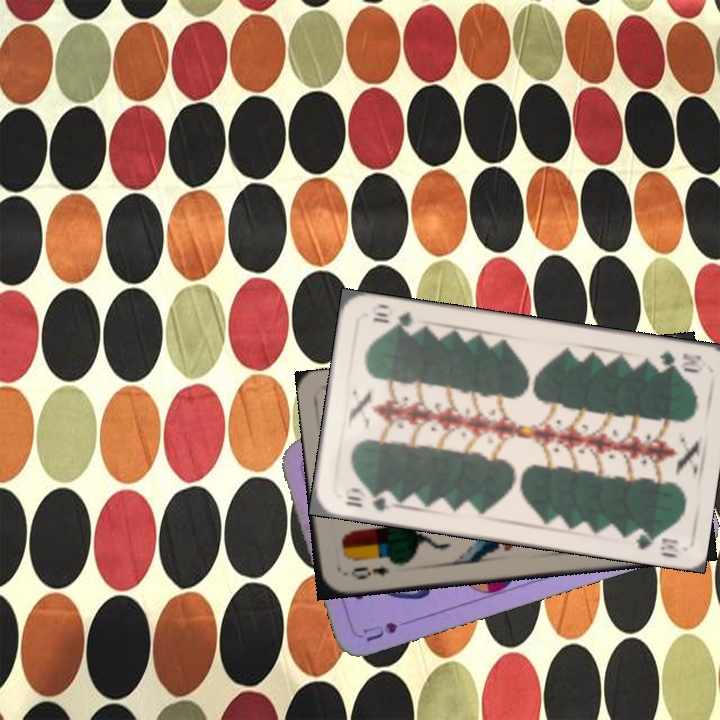EO: (340, 561, 392, 582)
G10: (341, 485, 394, 514), (655, 346, 706, 376)
SU: (359, 614, 418, 645)
